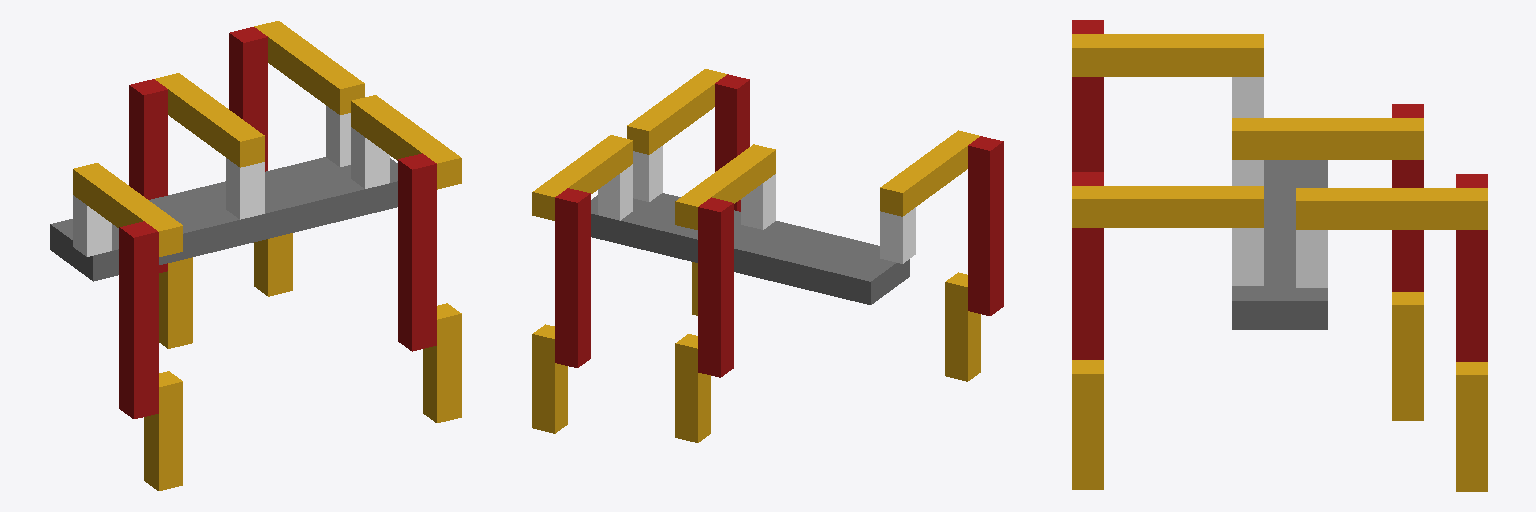
URDF robot description (v0):
<?xml version="1.0" encoding="utf-8"?>
<!-- =================================================================================== -->
<!-- |    This document was autogenerated by xacro from ../robots/v0variants/xacros/v0_4l_3.xacro | -->
<!-- |    EDITING THIS FILE BY HAND IS NOT RECOMMENDED                                 | -->
<!-- =================================================================================== -->
<robot name="v0">
  <material name="grey">
    <color rgba="0.5 0.5 0.5 1"/>
  </material>
  <material name="white">
    <color rgba="1 1 1 1"/>
  </material>
  <material name="yellow">
    <color rgba="0.91 0.7 0.14 1"/>
  </material>
  <material name="red">
    <color rgba="0.71 0.14 0.14 1"/>
  </material>
  <link name="body">
    <visual>
      <geometry>
        <box size="1.3 0.3 0.1"/>
      </geometry>
      <material name="grey"/>
      <origin rpy="0 0 0" xyz="0 0 0.7"/>
    </visual>
    <collision>
      <geometry>
        <box size="1.3 0.3 0.1"/>
      </geometry>
      <origin rpy="0 0 0" xyz="0 0 0.7"/>
    </collision>
    <inertial>
      <mass value="99.84"/>
      <inertia ixx="0.832" ixy="0.0" ixz="0.0" iyy="14.144" iyz="0.0" izz="14.8096"/>
    </inertial>
  </link>
  <link name="l1_segment_1">
    <visual>
      <geometry>
        <box size="0.1 0.1 0.2"/>
      </geometry>
      <material name="white"/>
      <origin rpy="0 0 0" xyz="0 0 0.1"/>
    </visual>
    <collision>
      <geometry>
        <box size="0.1 0.1 0.2"/>
      </geometry>
      <origin rpy="0 0 0" xyz="0 0 0.1"/>
    </collision>
    <inertial>
      <mass value="5.12"/>
      <inertia ixx="0.0213333333333" ixy="0.0" ixz="0.0" iyy="0.0213333333333" iyz="0.0" izz="0.00853333333333"/>
    </inertial>
  </link>
  <joint name="l1_base_to_joint_1" type="fixed">
    <parent link="body"/>
    <child link="l1_segment_1"/>
    <origin rpy="0 0 0" xyz="-0.008532695488240427 -0.1 0.75"/>
  </joint>
  <link name="l1_segment_2_HIP">
    <visual>
      <geometry>
        <box size="0.1 0.6 0.1"/>
      </geometry>
      <material name="yellow"/>
      <origin rpy="0 0 0" xyz="0 0.25 0"/>
    </visual>
    <collision>
      <geometry>
        <box size="0.1 0.6 0.1"/>
      </geometry>
      <origin rpy="0 0 0" xyz="0 0.25 0"/>
    </collision>
    <inertial>
      <mass value="15.36"/>
      <inertia ixx="0.4736" ixy="0.0" ixz="0.0" iyy="0.0256" iyz="0.0" izz="0.4736"/>
    </inertial>
  </link>
  <joint name="l1_joint_1_to_2" type="revolute">
    <parent link="l1_segment_1"/>
    <child link="l1_segment_2_HIP"/>
    <origin rpy="0 0 0" xyz="0 0 0.25"/>
    <axis xyz="0.0 0.0 1.0"/>
    <limit effort="2048" lower="-1.2" upper="1.2" velocity="20"/>
  </joint>
  <link name="l1_segment_3_THIGH">
    <visual>
      <geometry>
        <box size="0.1 0.1 0.7"/>
      </geometry>
      <material name="red"/>
      <origin rpy="0 0 0" xyz="0 0 -0.3"/>
    </visual>
    <collision>
      <geometry>
        <box size="0.1 0.1 0.7"/>
      </geometry>
      <origin rpy="0 0 0" xyz="0 0 -0.3"/>
    </collision>
    <inertial>
      <mass value="17.92"/>
      <inertia ixx="0.746666666667" ixy="0.0" ixz="0.0" iyy="0.746666666667" iyz="0.0" izz="0.0298666666667"/>
    </inertial>
  </link>
  <joint name="l1_joint_2_to_3" type="revolute">
    <parent link="l1_segment_2_HIP"/>
    <child link="l1_segment_3_THIGH"/>
    <origin rpy="0 0 0" xyz="-0.1 0.5 0"/>
    <axis xyz="1.0 0.0 0.0"/>
    <limit effort="2048" lower="-0.2" upper="0.75" velocity="20"/>
  </joint>
  <link name="l1_segment_4_FOOT">
    <visual>
      <geometry>
        <box size="0.1 0.1 0.4"/>
      </geometry>
      <material name="yellow"/>
      <origin rpy="0 0 0" xyz="0 0 -0.2"/>
    </visual>
    <collision>
      <geometry>
        <box size="0.1 0.1 0.4"/>
      </geometry>
      <origin rpy="0 0 0" xyz="0 0 -0.2"/>
    </collision>
    <inertial>
      <mass value="10.24"/>
      <inertia ixx="0.145066666667" ixy="0.0" ixz="0.0" iyy="0.145066666667" iyz="0.0" izz="0.0170666666667"/>
    </inertial>
  </link>
  <joint name="l1_joint_3_to_4_FOOT" type="revolute">
    <parent link="l1_segment_3_THIGH"/>
    <child link="l1_segment_4_FOOT"/>
    <origin rpy="0 0 0" xyz="0.1 0 -0.55"/>
    <axis xyz="1.0 0.0 0.0"/>
    <limit effort="2048" lower="-0.2" upper="0.5" velocity="20"/>
  </joint>
  <link name="r2_segment_1">
    <visual>
      <geometry>
        <box size="0.1 0.1 0.2"/>
      </geometry>
      <material name="white"/>
      <origin rpy="0 0 0" xyz="0 0 0.1"/>
    </visual>
    <collision>
      <geometry>
        <box size="0.1 0.1 0.2"/>
      </geometry>
      <origin rpy="0 0 0" xyz="0 0 0.1"/>
    </collision>
    <inertial>
      <mass value="5.12"/>
      <inertia ixx="0.0213333333333" ixy="0.0" ixz="0.0" iyy="0.0213333333333" iyz="0.0" izz="0.00853333333333"/>
    </inertial>
  </link>
  <joint name="r2_base_to_joint_1" type="fixed">
    <parent link="body"/>
    <child link="r2_segment_1"/>
    <origin rpy="0 0 0" xyz="-0.6255448076694028 -0.1 0.75"/>
  </joint>
  <link name="r2_segment_2_HIP">
    <visual>
      <geometry>
        <box size="0.1 0.6 0.1"/>
      </geometry>
      <material name="yellow"/>
      <origin rpy="0 0 0" xyz="0 -0.25 0"/>
    </visual>
    <collision>
      <geometry>
        <box size="0.1 0.6 0.1"/>
      </geometry>
      <origin rpy="0 0 0" xyz="0 -0.25 0"/>
    </collision>
    <inertial>
      <mass value="15.36"/>
      <inertia ixx="0.4736" ixy="0.0" ixz="0.0" iyy="0.0256" iyz="0.0" izz="0.4736"/>
    </inertial>
  </link>
  <joint name="r2_joint_1_to_2" type="revolute">
    <parent link="r2_segment_1"/>
    <child link="r2_segment_2_HIP"/>
    <origin rpy="0 0 0" xyz="0 0 0.25"/>
    <axis xyz="0.0 0.0 1.0"/>
    <limit effort="2048" lower="-1.2" upper="1.2" velocity="20"/>
  </joint>
  <link name="r2_segment_3_THIGH">
    <visual>
      <geometry>
        <box size="0.1 0.1 0.7"/>
      </geometry>
      <material name="red"/>
      <origin rpy="0 0 0" xyz="0 0 -0.3"/>
    </visual>
    <collision>
      <geometry>
        <box size="0.1 0.1 0.7"/>
      </geometry>
      <origin rpy="0 0 0" xyz="0 0 -0.3"/>
    </collision>
    <inertial>
      <mass value="17.92"/>
      <inertia ixx="0.746666666667" ixy="0.0" ixz="0.0" iyy="0.746666666667" iyz="0.0" izz="0.0298666666667"/>
    </inertial>
  </link>
  <joint name="r2_joint_2_to_3" type="revolute">
    <parent link="r2_segment_2_HIP"/>
    <child link="r2_segment_3_THIGH"/>
    <origin rpy="0 0 0" xyz="-0.1 -0.5 0"/>
    <axis xyz="1.0 0.0 0.0"/>
    <limit effort="2048" lower="-0.75" upper="0.2" velocity="20"/>
  </joint>
  <link name="r2_segment_4_FOOT">
    <visual>
      <geometry>
        <box size="0.1 0.1 0.4"/>
      </geometry>
      <material name="yellow"/>
      <origin rpy="0 0 0" xyz="0 0 -0.2"/>
    </visual>
    <collision>
      <geometry>
        <box size="0.1 0.1 0.4"/>
      </geometry>
      <origin rpy="0 0 0" xyz="0 0 -0.2"/>
    </collision>
    <inertial>
      <mass value="10.24"/>
      <inertia ixx="0.145066666667" ixy="0.0" ixz="0.0" iyy="0.145066666667" iyz="0.0" izz="0.0170666666667"/>
    </inertial>
  </link>
  <joint name="r2_joint_3_to_4_FOOT" type="revolute">
    <parent link="r2_segment_3_THIGH"/>
    <child link="r2_segment_4_FOOT"/>
    <origin rpy="0 0 0" xyz="0.1 0 -0.55"/>
    <axis xyz="1.0 0.0 0.0"/>
    <limit effort="2048" lower="-0.5" upper="0.2" velocity="20"/>
  </joint>
  <link name="l3_segment_1">
    <visual>
      <geometry>
        <box size="0.1 0.1 0.2"/>
      </geometry>
      <material name="white"/>
      <origin rpy="0 0 0" xyz="0 0 0.1"/>
    </visual>
    <collision>
      <geometry>
        <box size="0.1 0.1 0.2"/>
      </geometry>
      <origin rpy="0 0 0" xyz="0 0 0.1"/>
    </collision>
    <inertial>
      <mass value="5.12"/>
      <inertia ixx="0.0213333333333" ixy="0.0" ixz="0.0" iyy="0.0213333333333" iyz="0.0" izz="0.00853333333333"/>
    </inertial>
  </link>
  <joint name="l3_base_to_joint_1" type="fixed">
    <parent link="body"/>
    <child link="l3_segment_1"/>
    <origin rpy="0 0 0" xyz="0.5090647384404642 0.1 0.75"/>
  </joint>
  <link name="l3_segment_2_HIP">
    <visual>
      <geometry>
        <box size="0.1 0.6 0.1"/>
      </geometry>
      <material name="yellow"/>
      <origin rpy="0 0 0" xyz="0 0.25 0"/>
    </visual>
    <collision>
      <geometry>
        <box size="0.1 0.6 0.1"/>
      </geometry>
      <origin rpy="0 0 0" xyz="0 0.25 0"/>
    </collision>
    <inertial>
      <mass value="15.36"/>
      <inertia ixx="0.4736" ixy="0.0" ixz="0.0" iyy="0.0256" iyz="0.0" izz="0.4736"/>
    </inertial>
  </link>
  <joint name="l3_joint_1_to_2" type="revolute">
    <parent link="l3_segment_1"/>
    <child link="l3_segment_2_HIP"/>
    <origin rpy="0 0 0" xyz="0 0 0.25"/>
    <axis xyz="0.0 0.0 1.0"/>
    <limit effort="2048" lower="-1.2" upper="1.2" velocity="20"/>
  </joint>
  <link name="l3_segment_3_THIGH">
    <visual>
      <geometry>
        <box size="0.1 0.1 0.7"/>
      </geometry>
      <material name="red"/>
      <origin rpy="0 0 0" xyz="0 0 -0.3"/>
    </visual>
    <collision>
      <geometry>
        <box size="0.1 0.1 0.7"/>
      </geometry>
      <origin rpy="0 0 0" xyz="0 0 -0.3"/>
    </collision>
    <inertial>
      <mass value="17.92"/>
      <inertia ixx="0.746666666667" ixy="0.0" ixz="0.0" iyy="0.746666666667" iyz="0.0" izz="0.0298666666667"/>
    </inertial>
  </link>
  <joint name="l3_joint_2_to_3" type="revolute">
    <parent link="l3_segment_2_HIP"/>
    <child link="l3_segment_3_THIGH"/>
    <origin rpy="0 0 0" xyz="-0.1 0.5 0"/>
    <axis xyz="1.0 0.0 0.0"/>
    <limit effort="2048" lower="-0.2" upper="0.75" velocity="20"/>
  </joint>
  <link name="l3_segment_4_FOOT">
    <visual>
      <geometry>
        <box size="0.1 0.1 0.4"/>
      </geometry>
      <material name="yellow"/>
      <origin rpy="0 0 0" xyz="0 0 -0.2"/>
    </visual>
    <collision>
      <geometry>
        <box size="0.1 0.1 0.4"/>
      </geometry>
      <origin rpy="0 0 0" xyz="0 0 -0.2"/>
    </collision>
    <inertial>
      <mass value="10.24"/>
      <inertia ixx="0.145066666667" ixy="0.0" ixz="0.0" iyy="0.145066666667" iyz="0.0" izz="0.0170666666667"/>
    </inertial>
  </link>
  <joint name="l3_joint_3_to_4_FOOT" type="revolute">
    <parent link="l3_segment_3_THIGH"/>
    <child link="l3_segment_4_FOOT"/>
    <origin rpy="0 0 0" xyz="0.1 0 -0.55"/>
    <axis xyz="1.0 0.0 0.0"/>
    <limit effort="2048" lower="-0.2" upper="0.5" velocity="20"/>
  </joint>
  <link name="r4_segment_1">
    <visual>
      <geometry>
        <box size="0.1 0.1 0.2"/>
      </geometry>
      <material name="white"/>
      <origin rpy="0 0 0" xyz="0 0 0.1"/>
    </visual>
    <collision>
      <geometry>
        <box size="0.1 0.1 0.2"/>
      </geometry>
      <origin rpy="0 0 0" xyz="0 0 0.1"/>
    </collision>
    <inertial>
      <mass value="5.12"/>
      <inertia ixx="0.0213333333333" ixy="0.0" ixz="0.0" iyy="0.0213333333333" iyz="0.0" izz="0.00853333333333"/>
    </inertial>
  </link>
  <joint name="r4_base_to_joint_1" type="fixed">
    <parent link="body"/>
    <child link="r4_segment_1"/>
    <origin rpy="0 0 0" xyz="0.4952833803423745 -0.1 0.75"/>
  </joint>
  <link name="r4_segment_2_HIP">
    <visual>
      <geometry>
        <box size="0.1 0.6 0.1"/>
      </geometry>
      <material name="yellow"/>
      <origin rpy="0 0 0" xyz="0 -0.25 0"/>
    </visual>
    <collision>
      <geometry>
        <box size="0.1 0.6 0.1"/>
      </geometry>
      <origin rpy="0 0 0" xyz="0 -0.25 0"/>
    </collision>
    <inertial>
      <mass value="15.36"/>
      <inertia ixx="0.4736" ixy="0.0" ixz="0.0" iyy="0.0256" iyz="0.0" izz="0.4736"/>
    </inertial>
  </link>
  <joint name="r4_joint_1_to_2" type="revolute">
    <parent link="r4_segment_1"/>
    <child link="r4_segment_2_HIP"/>
    <origin rpy="0 0 0" xyz="0 0 0.25"/>
    <axis xyz="0.0 0.0 1.0"/>
    <limit effort="2048" lower="-1.2" upper="1.2" velocity="20"/>
  </joint>
  <link name="r4_segment_3_THIGH">
    <visual>
      <geometry>
        <box size="0.1 0.1 0.7"/>
      </geometry>
      <material name="red"/>
      <origin rpy="0 0 0" xyz="0 0 -0.3"/>
    </visual>
    <collision>
      <geometry>
        <box size="0.1 0.1 0.7"/>
      </geometry>
      <origin rpy="0 0 0" xyz="0 0 -0.3"/>
    </collision>
    <inertial>
      <mass value="17.92"/>
      <inertia ixx="0.746666666667" ixy="0.0" ixz="0.0" iyy="0.746666666667" iyz="0.0" izz="0.0298666666667"/>
    </inertial>
  </link>
  <joint name="r4_joint_2_to_3" type="revolute">
    <parent link="r4_segment_2_HIP"/>
    <child link="r4_segment_3_THIGH"/>
    <origin rpy="0 0 0" xyz="-0.1 -0.5 0"/>
    <axis xyz="1.0 0.0 0.0"/>
    <limit effort="2048" lower="-0.75" upper="0.2" velocity="20"/>
  </joint>
  <link name="r4_segment_4_FOOT">
    <visual>
      <geometry>
        <box size="0.1 0.1 0.4"/>
      </geometry>
      <material name="yellow"/>
      <origin rpy="0 0 0" xyz="0 0 -0.2"/>
    </visual>
    <collision>
      <geometry>
        <box size="0.1 0.1 0.4"/>
      </geometry>
      <origin rpy="0 0 0" xyz="0 0 -0.2"/>
    </collision>
    <inertial>
      <mass value="10.24"/>
      <inertia ixx="0.145066666667" ixy="0.0" ixz="0.0" iyy="0.145066666667" iyz="0.0" izz="0.0170666666667"/>
    </inertial>
  </link>
  <joint name="r4_joint_3_to_4_FOOT" type="revolute">
    <parent link="r4_segment_3_THIGH"/>
    <child link="r4_segment_4_FOOT"/>
    <origin rpy="0 0 0" xyz="0.1 0 -0.55"/>
    <axis xyz="1.0 0.0 0.0"/>
    <limit effort="2048" lower="-0.5" upper="0.2" velocity="20"/>
  </joint>
</robot>

--- Facts derived from the render (not from the file) ---
Views: 3 orthographic renders of the robot side by side, from view 1: azimuth 30°, elevation 25°; view 2: azimuth 150°, elevation 25°; view 3: azimuth 270°, elevation 25°.
Model v0 with 17 links and 16 joints (12 revolute, 4 fixed), rooted at body, posed every joint at zero.
Visible links, largest first — view 1: body, r2_segment_3_THIGH, r4_segment_3_THIGH, l1_segment_2_HIP, l1_segment_3_THIGH, l3_segment_2_HIP, r4_segment_2_HIP, r2_segment_2_HIP, r4_segment_4_FOOT, r2_segment_4_FOOT, l3_segment_3_THIGH, l1_segment_4_FOOT (+5 smaller); view 2: body, r2_segment_3_THIGH, l3_segment_3_THIGH, l1_segment_3_THIGH, r2_segment_2_HIP, r4_segment_2_HIP, l1_segment_2_HIP, l3_segment_2_HIP, l1_segment_4_FOOT, l3_segment_4_FOOT, r2_segment_4_FOOT, r4_segment_3_THIGH (+4 smaller); view 3: body, r2_segment_2_HIP, l1_segment_2_HIP, l3_segment_2_HIP, r4_segment_2_HIP, l3_segment_3_THIGH, r4_segment_3_THIGH, l3_segment_4_FOOT, r4_segment_4_FOOT, l1_segment_4_FOOT, r2_segment_3_THIGH, l1_segment_3_THIGH (+4 smaller).
Link boxes in pixels (x1=…): body: x1=50, y1=157, x2=397, y2=281; r2_segment_3_THIGH: x1=119, y1=221, x2=158, y2=418; r4_segment_3_THIGH: x1=398, y1=153, x2=436, y2=351; l1_segment_2_HIP: x1=155, y1=73, x2=264, y2=167; l1_segment_3_THIGH: x1=129, y1=79, x2=167, y2=272; l3_segment_2_HIP: x1=254, y1=21, x2=364, y2=114; r4_segment_2_HIP: x1=351, y1=95, x2=461, y2=189; r2_segment_2_HIP: x1=73, y1=163, x2=182, y2=256; r4_segment_4_FOOT: x1=423, y1=303, x2=461, y2=422; r2_segment_4_FOOT: x1=144, y1=371, x2=182, y2=490; l3_segment_3_THIGH: x1=229, y1=27, x2=267, y2=171; l1_segment_4_FOOT: x1=159, y1=257, x2=192, y2=348; body: x1=591, y1=193, x2=909, y2=304; r2_segment_3_THIGH: x1=968, y1=136, x2=1003, y2=315; l3_segment_3_THIGH: x1=555, y1=188, x2=590, y2=367; l1_segment_3_THIGH: x1=698, y1=197, x2=733, y2=377; r2_segment_2_HIP: x1=880, y1=130, x2=979, y2=216; r4_segment_2_HIP: x1=627, y1=69, x2=726, y2=154; l1_segment_2_HIP: x1=675, y1=144, x2=775, y2=229; l3_segment_2_HIP: x1=532, y1=135, x2=632, y2=220; l1_segment_4_FOOT: x1=675, y1=334, x2=710, y2=442; l3_segment_4_FOOT: x1=532, y1=324, x2=567, y2=433; r2_segment_4_FOOT: x1=945, y1=272, x2=980, y2=381; r4_segment_3_THIGH: x1=715, y1=74, x2=749, y2=211; body: x1=1232, y1=160, x2=1327, y2=329; r2_segment_2_HIP: x1=1072, y1=34, x2=1263, y2=76; l1_segment_2_HIP: x1=1232, y1=118, x2=1423, y2=159; l3_segment_2_HIP: x1=1296, y1=188, x2=1487, y2=229; r4_segment_2_HIP: x1=1072, y1=186, x2=1263, y2=227; l3_segment_3_THIGH: x1=1456, y1=174, x2=1487, y2=361; r4_segment_3_THIGH: x1=1072, y1=172, x2=1103, y2=359; l3_segment_4_FOOT: x1=1456, y1=362, x2=1487, y2=491; r4_segment_4_FOOT: x1=1072, y1=360, x2=1103, y2=489; l1_segment_4_FOOT: x1=1392, y1=292, x2=1423, y2=420; r2_segment_3_THIGH: x1=1072, y1=20, x2=1103, y2=171; l1_segment_3_THIGH: x1=1392, y1=104, x2=1423, y2=291.
Bounding box of the posed robot: 1.43 × 1.3 × 1 m (x, y, z).
Geometry: primitives only (box / cylinder / sphere), no mesh files.